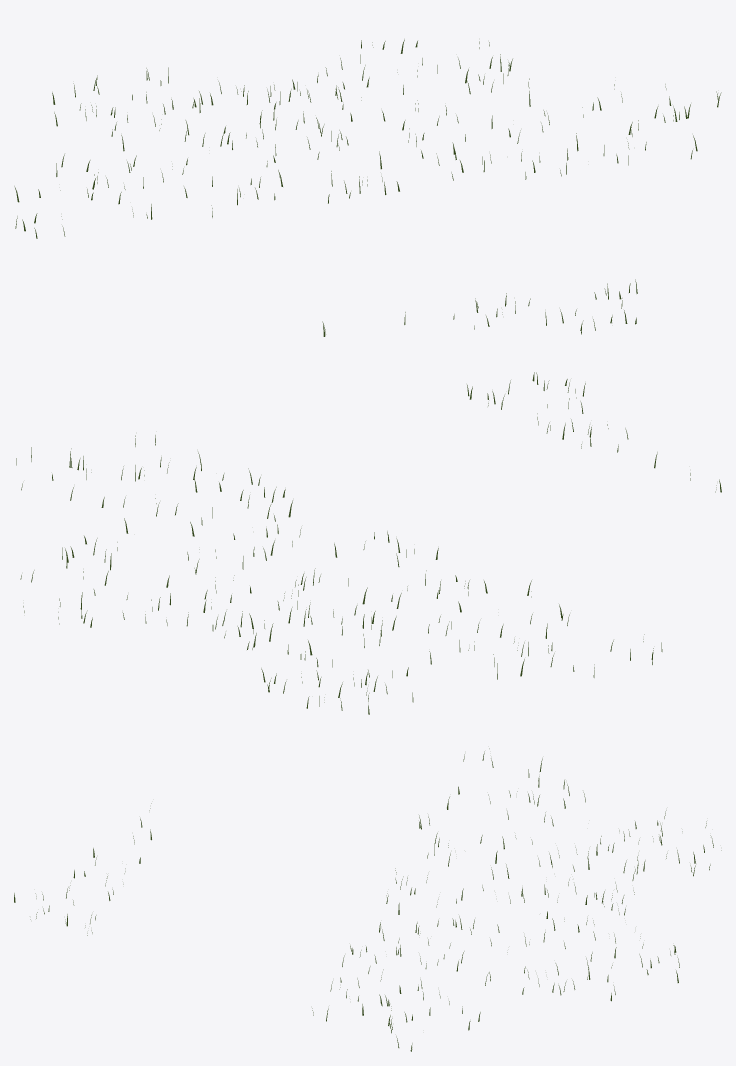
The picture shows the model from 3 angles, top to bottom: view 1: azimuth 30°, elevation 25°; view 2: azimuth 150°, elevation 25°; view 3: azimuth 270°, elevation 25°; orthographic projection. The views are drawn at different scales.
Visible parts, largest first — view 1: GrassPatch; view 2: GrassPatch; view 3: GrassPatch.
Boxes of the visible parts, x1,y1,x2,y2 form: GrassPatch: (14, 39, 721, 336); GrassPatch: (16, 372, 721, 714); GrassPatch: (14, 748, 721, 1051).
Size of the model in its own units: 18.92 by 0.4905 by 19.28.
